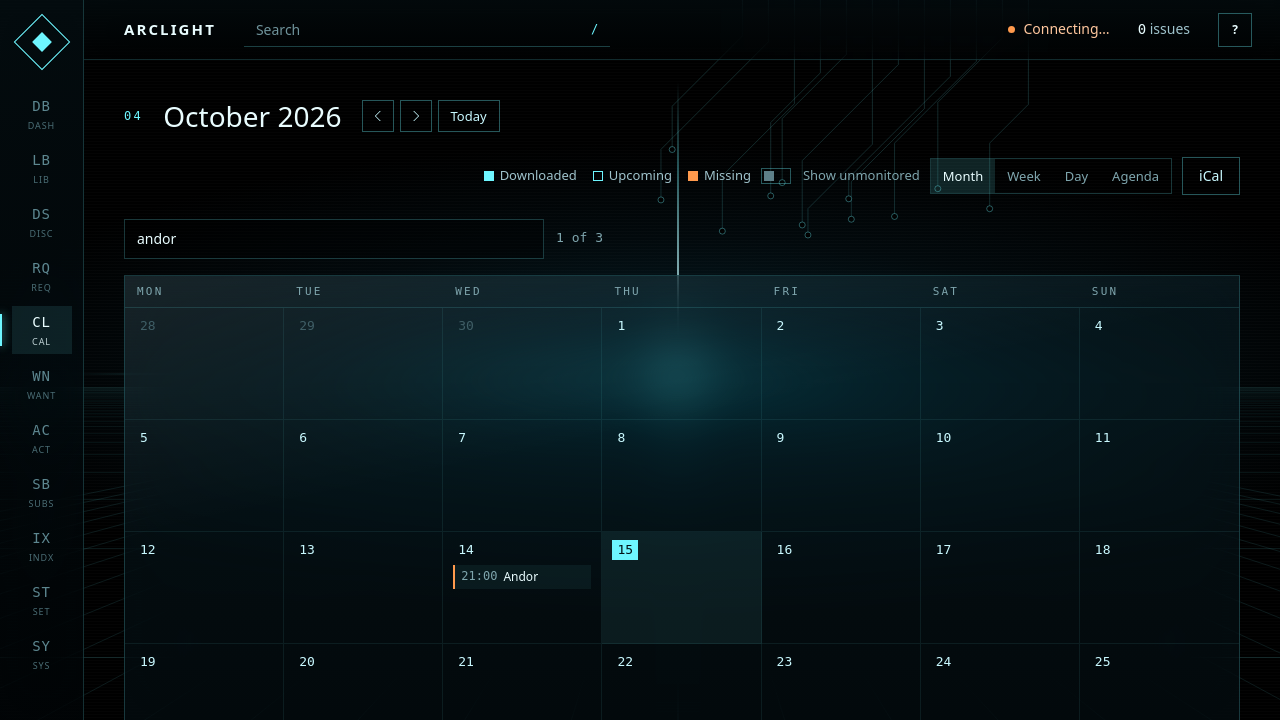
Test: calendar page › search filters the entries by title, episode title or code; Clear search brings them back
The image size is (1280, 720).
Check: the button with aria-label "Andor, S02E03" is shown, box [453, 565, 591, 589]
Check: the button "Severance" is not shown
Step 1. Replace the text in the search field named "Search this list" with "after hours" → {"x": 334, "y": 239}, box [124, 219, 544, 259]
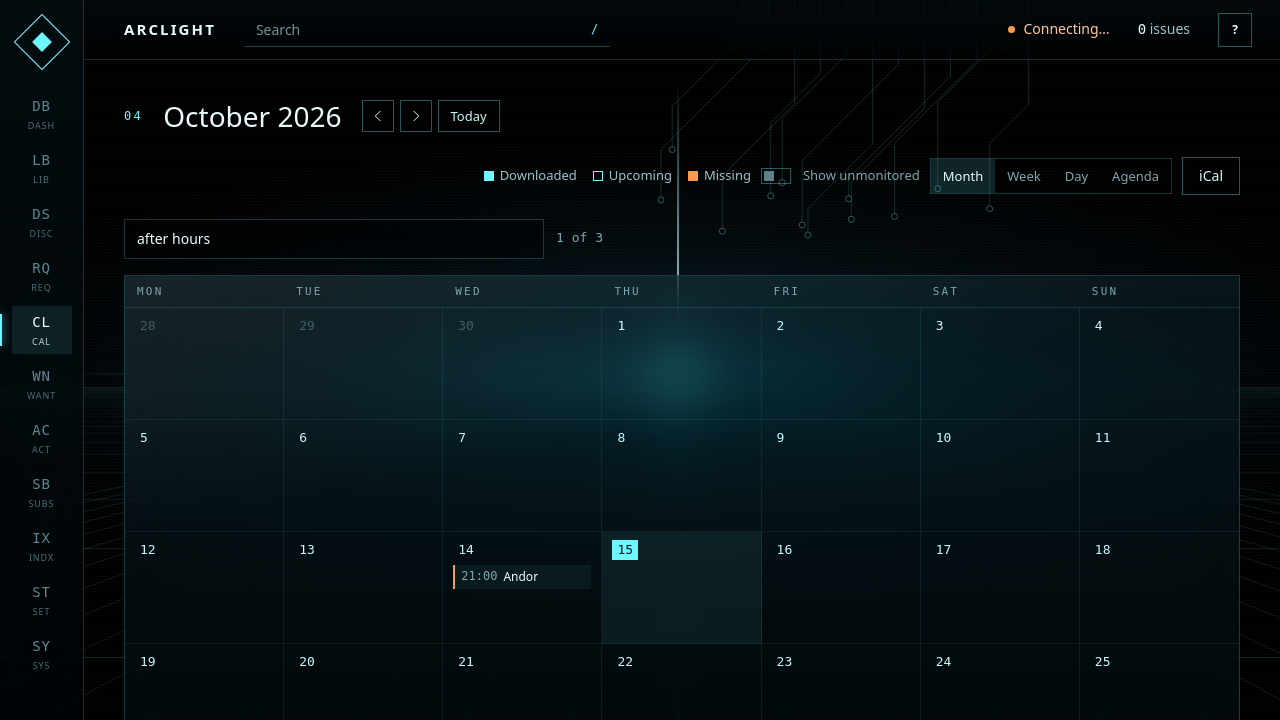
Step 2. Press Enter in the search field named "Search this list", box [124, 219, 544, 259]
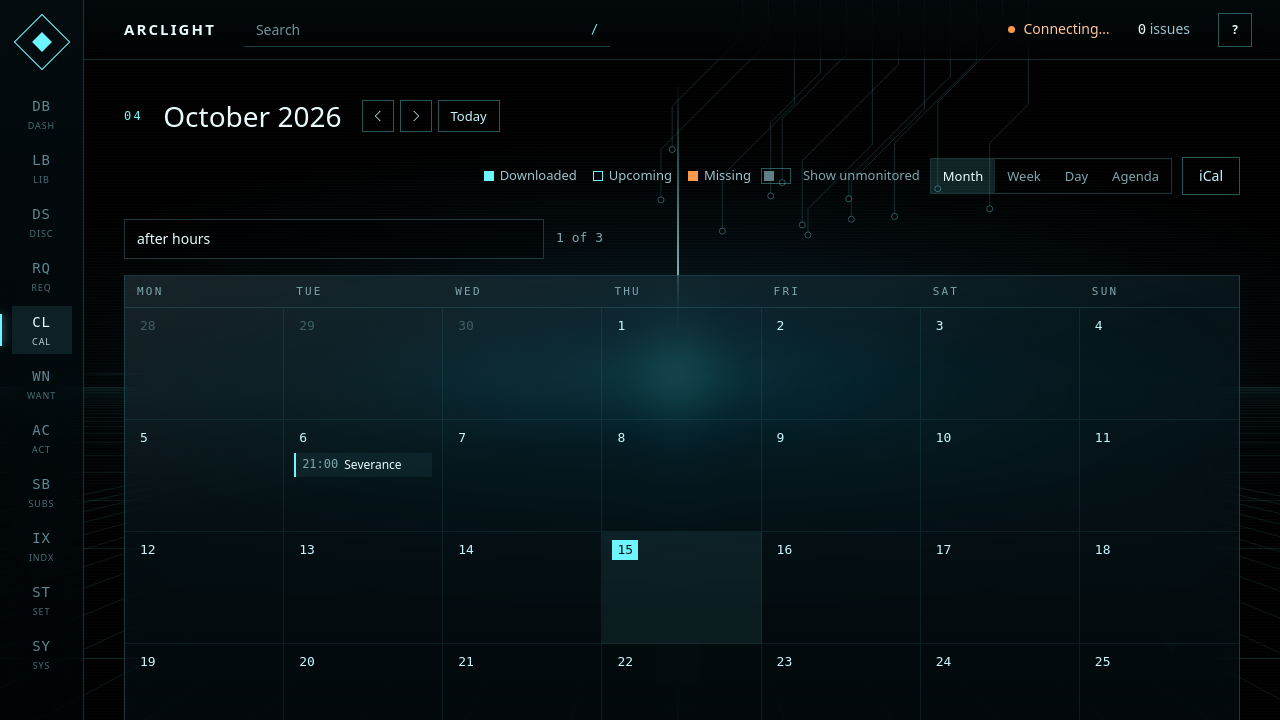
Check: the button with aria-label "Severance, S02E09" is shown, box [294, 453, 432, 477]
Check: the button "Andor" is gone
Step 3. Replace the text in the search field named "Search this list" with "nothing here" → {"x": 334, "y": 239}, box [124, 219, 544, 259]
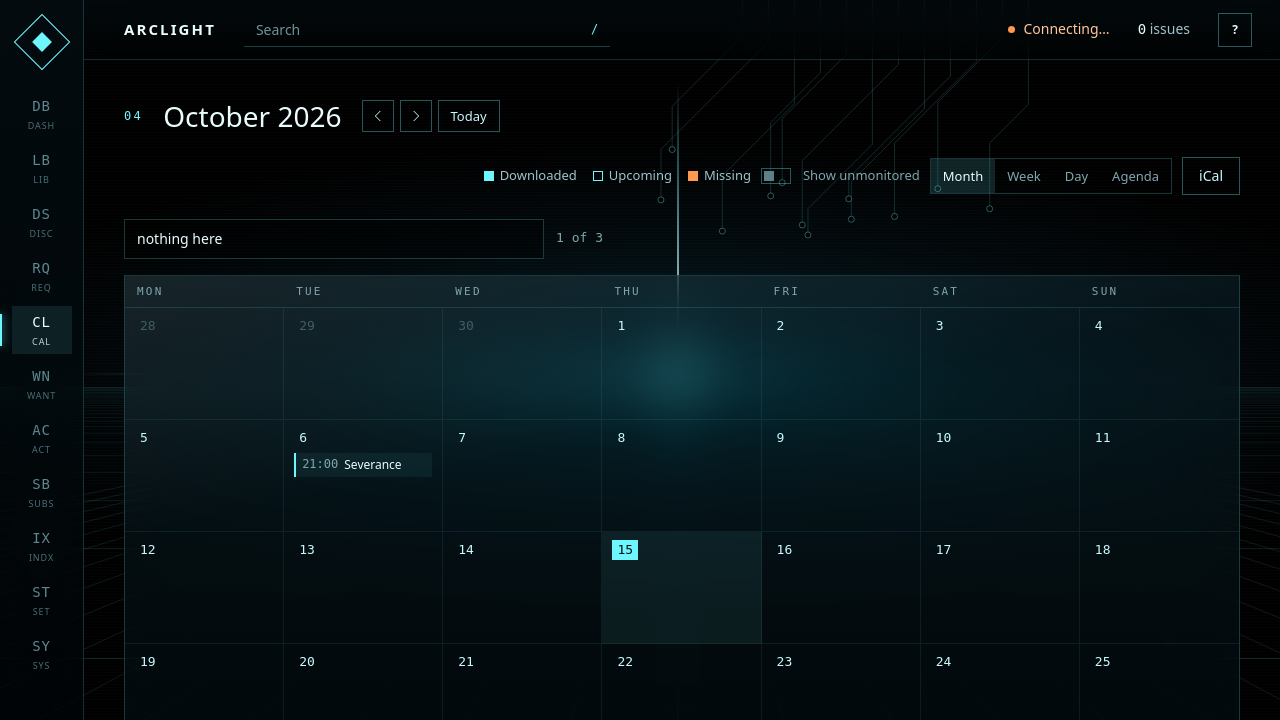
Step 4. Press Enter in the search field named "Search this list", box [124, 219, 544, 259]
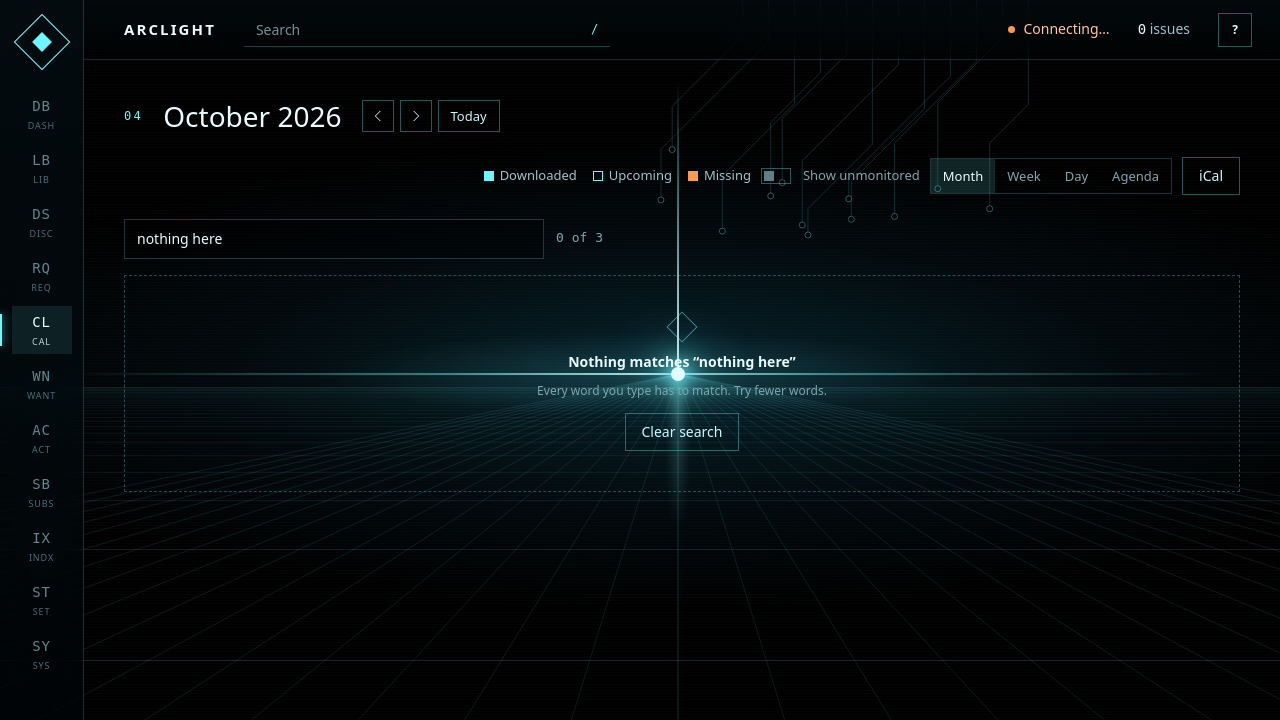
Step 5. Click the button "Clear search" → {"x": 682, "y": 432}, box [624, 413, 740, 451]
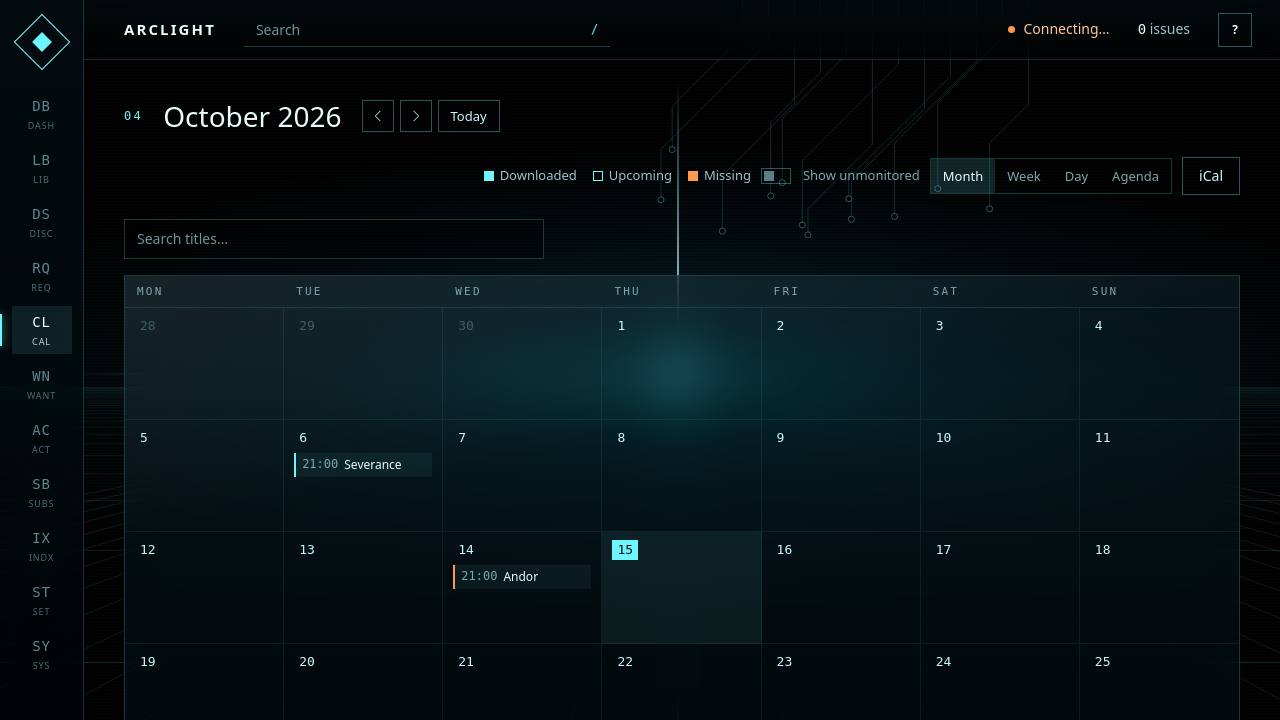
Check: the button with aria-label "Andor, S02E03" is shown, box [453, 565, 591, 589]
